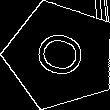O_E: (28, 27, 93, 84)
